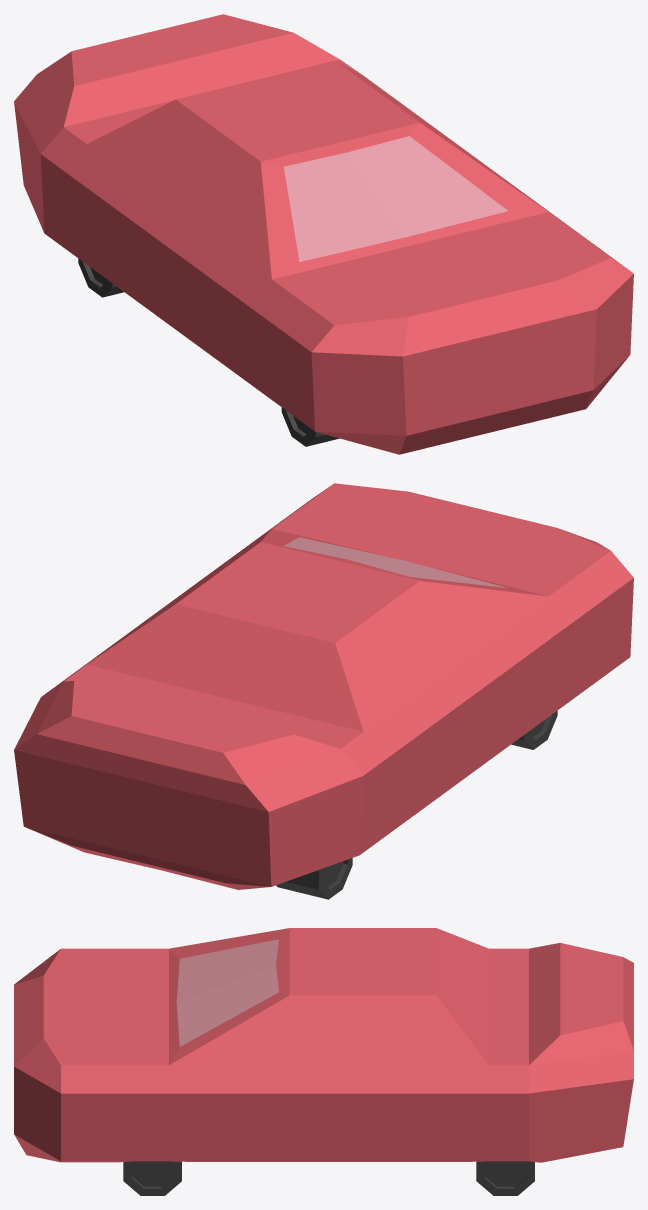
Rendered from Car.fbx.
3 views of the same model, one above another, from view 1: azimuth 30°, elevation 25°; view 2: azimuth 150°, elevation 25°; view 3: azimuth 270°, elevation 25° (orthographic). The views are drawn at different scales.
Visible parts, largest first — view 1: F_Car; view 2: F_Car; view 3: F_Car.
Boxes of the visible parts, bbox=[...] form: F_Car: bbox=[14, 14, 633, 454]; F_Car: bbox=[14, 483, 633, 899]; F_Car: bbox=[14, 928, 633, 1195].
Size of the model in its own units: 335 by 211 by 645.
